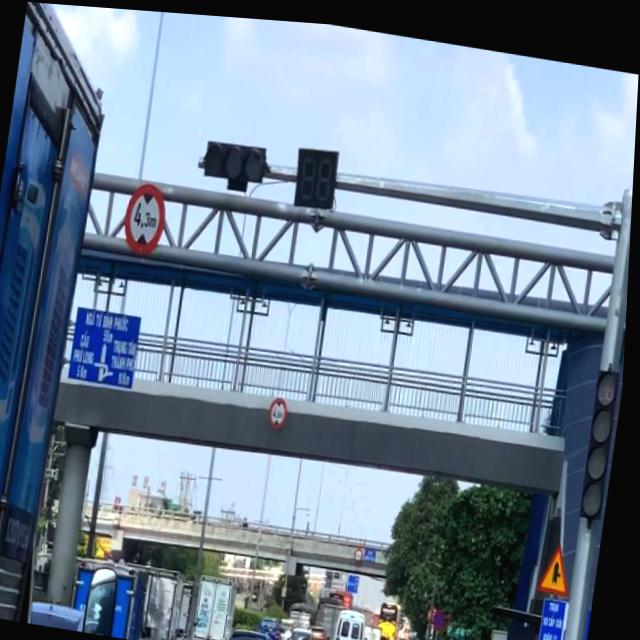Cam dung xe va do xe: (438, 601, 452, 623)
Giao nhau voi duong khong uu tien ben phai: (542, 530, 581, 588)
Han che chieu cao: (123, 177, 172, 255), (271, 390, 292, 425), (359, 541, 369, 557)
